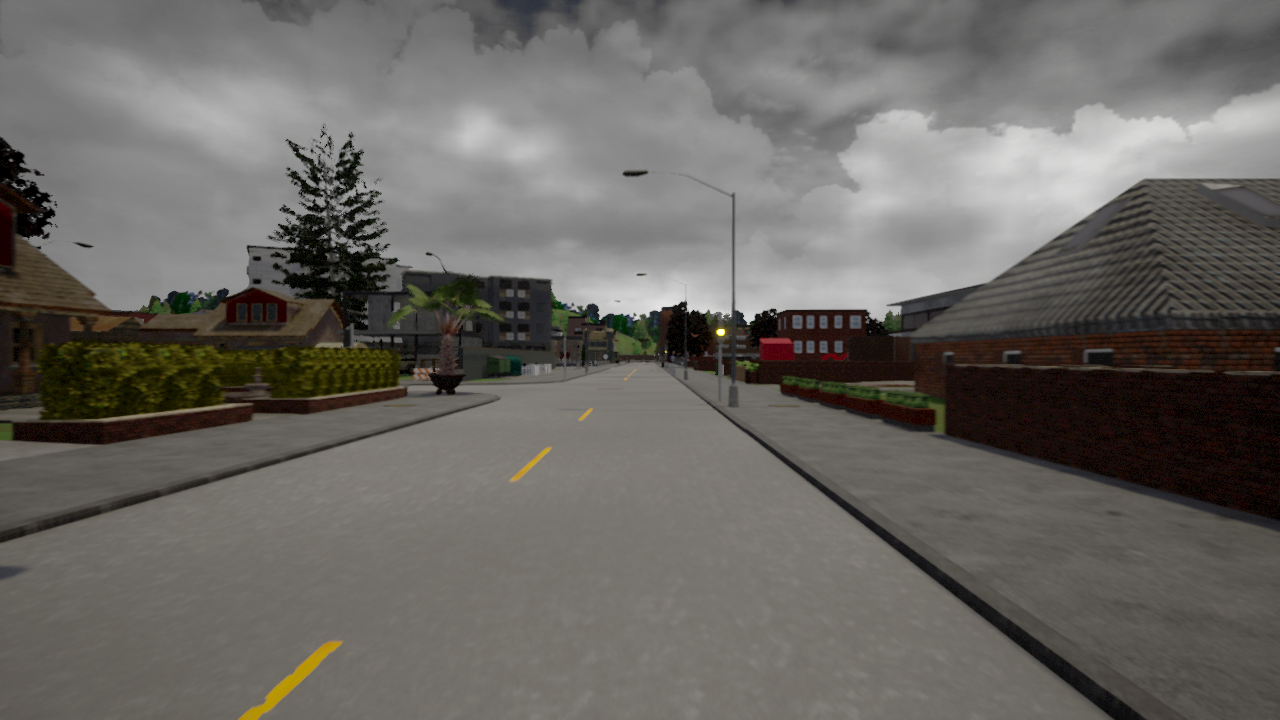yellow: (714, 319, 726, 344)
